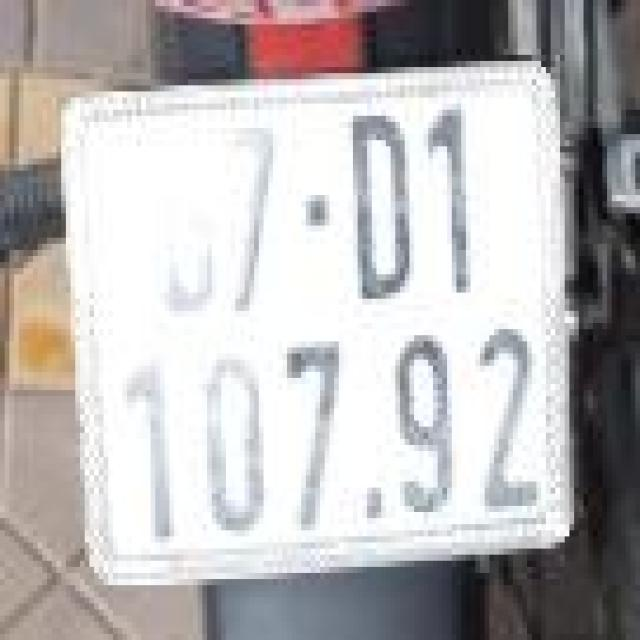0: (200, 354, 271, 536)
1: (120, 350, 176, 546), (424, 98, 476, 298)
2: (475, 323, 541, 518)
6: (150, 122, 217, 317)
7: (282, 338, 348, 534), (221, 119, 278, 320)
9: (388, 326, 459, 515)
D: (346, 106, 416, 308)
